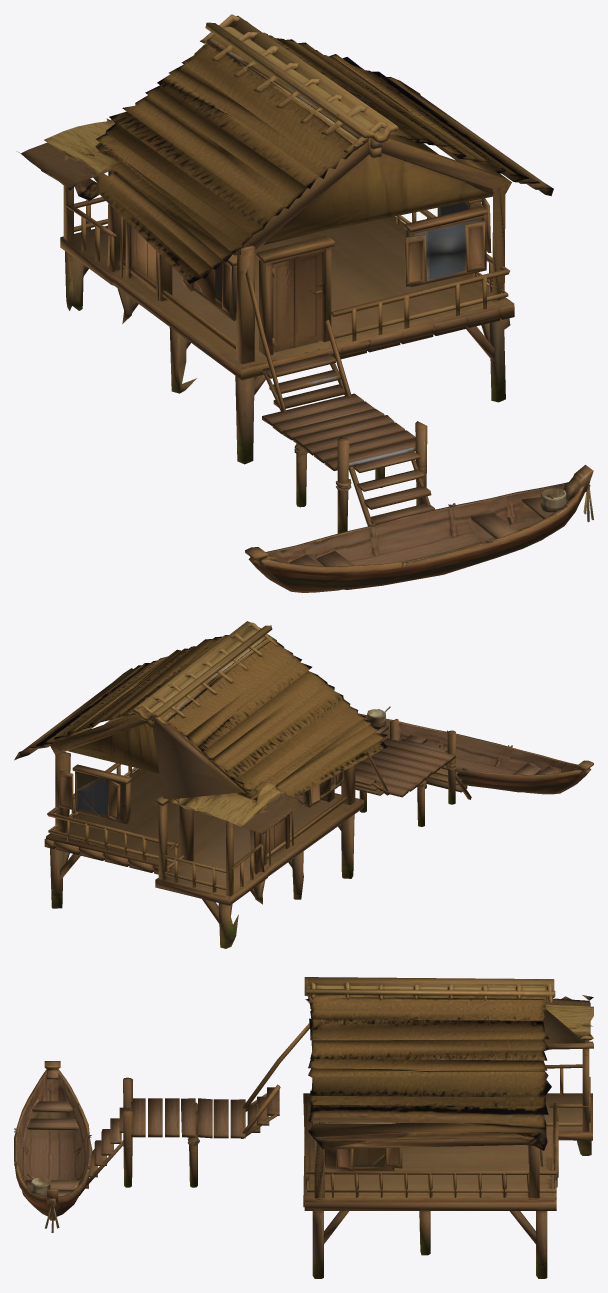
3 views of the same model, one above another, from view 1: azimuth 30°, elevation 25°; view 2: azimuth 150°, elevation 25°; view 3: azimuth 270°, elevation 25° (orthographic). The views are drawn at different scales.
Visible parts, largest first — view 1: tripo_node_59eb182b-fca2-4262-9b38-0c9ac3cf8c24; view 2: tripo_node_59eb182b-fca2-4262-9b38-0c9ac3cf8c24; view 3: tripo_node_59eb182b-fca2-4262-9b38-0c9ac3cf8c24.
Boxes of the visible parts, x1,y1,x2,y2 form: tripo_node_59eb182b-fca2-4262-9b38-0c9ac3cf8c24: (17,14,593,592); tripo_node_59eb182b-fca2-4262-9b38-0c9ac3cf8c24: (14,621,593,948); tripo_node_59eb182b-fca2-4262-9b38-0c9ac3cf8c24: (14,977,593,1278).
Bounding box in the file's own units: 0.748 × 0.4785 × 0.998.
Materials: 1 (1 with a texture image).
